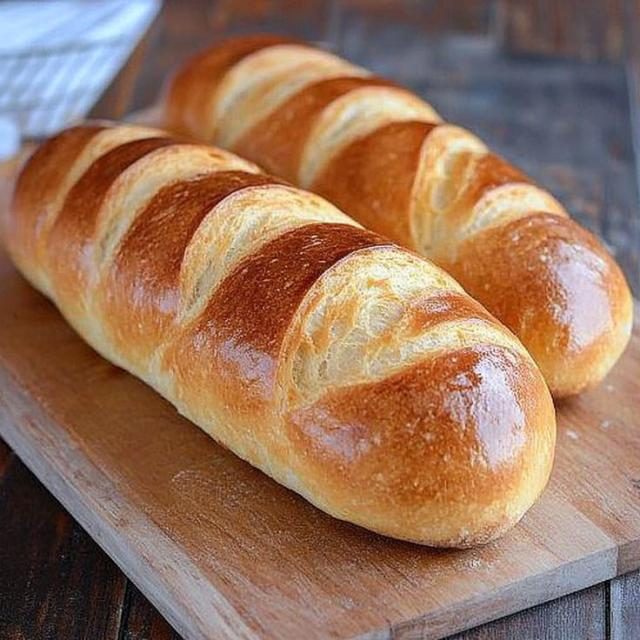bread: (4, 123, 554, 546), (166, 37, 632, 397)
